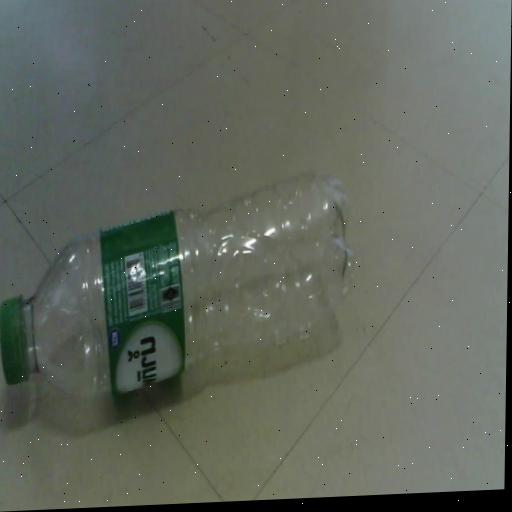bottle: (0, 137, 375, 438)
